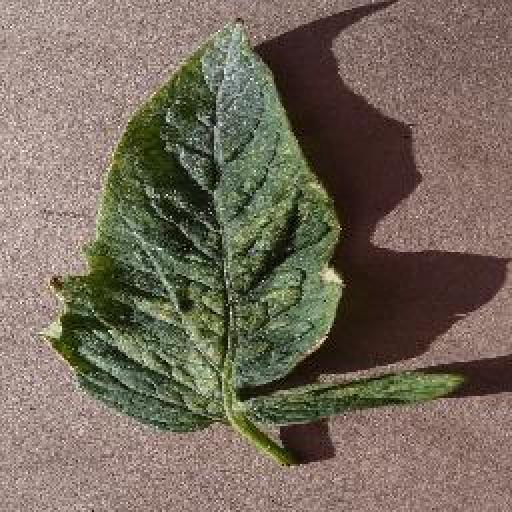disease_tomato: (44, 15, 464, 432)
